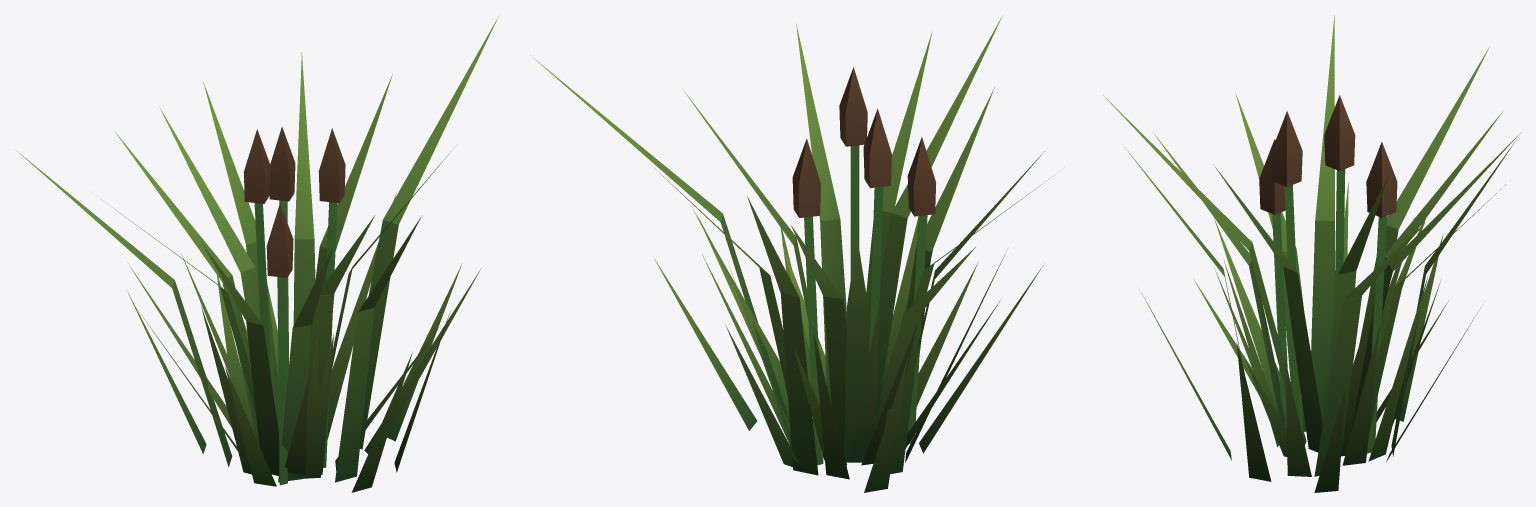
The model's file is roseaux.glb.
3 views of the same model, side by side, from view 1: azimuth 30°, elevation 25°; view 2: azimuth 150°, elevation 25°; view 3: azimuth 270°, elevation 25° (orthographic). The views are drawn at different scales.
Parts seen in each view (by area): view 1: roseaux; view 2: roseaux; view 3: roseaux.
Part boxes in pixels (x1,y1,x2,y2): roseaux: (17,16,498,492); roseaux: (530,15,1049,492); roseaux: (1103,15,1521,492).
Size of the model in its own units: 0.4881 by 0.3473 by 0.3787.
